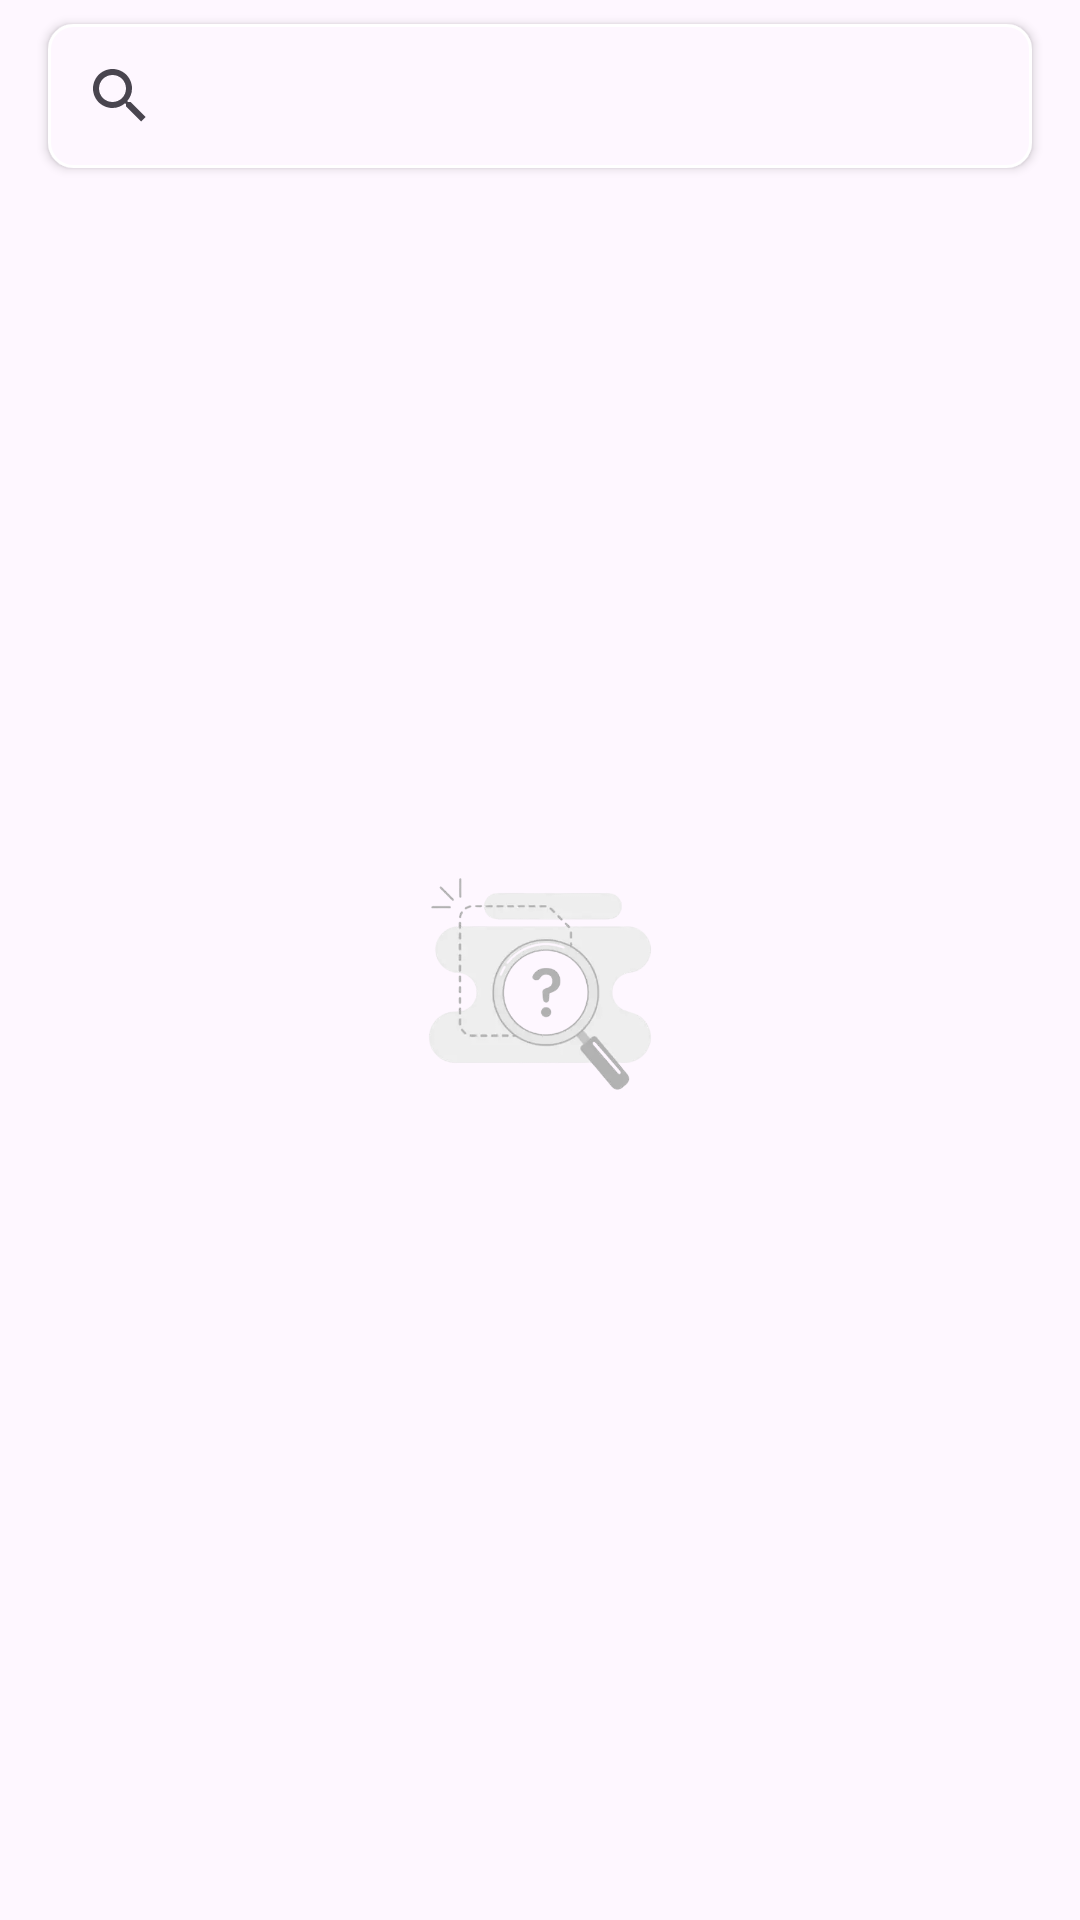

Icon bounding boxes for this 1080 × 1920 phone screenshot, format (x1, y1, x2, y2):
No data available: (431, 878, 629, 1090)
